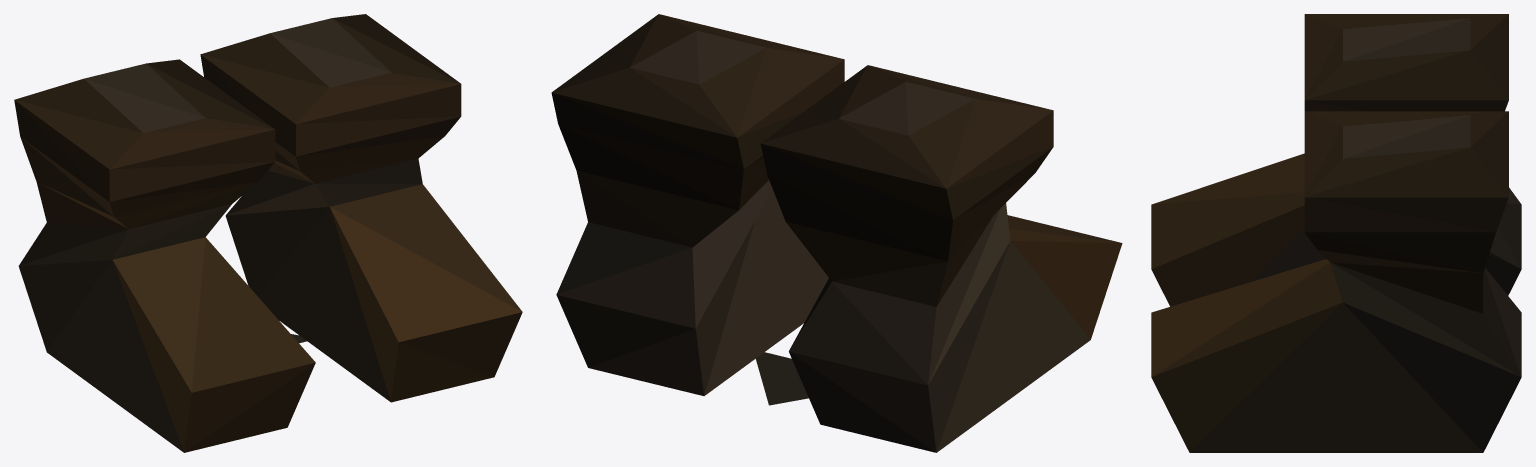
The model's file is bronze-boots.obj.
3 views of the same model, side by side, from view 1: azimuth 30°, elevation 25°; view 2: azimuth 150°, elevation 25°; view 3: azimuth 270°, elevation 25° (orthographic). The views are drawn at different scales.
Parts seen in each view (by area): view 1: Item Bronze boots 2026-09-24_18-23-58; view 2: Item Bronze boots 2026-09-24_18-23-58; view 3: Item Bronze boots 2026-09-24_18-23-58.
Boxes of the visible parts, box(x1,y1,x2,y2) form: Item Bronze boots 2026-09-24_18-23-58: box(14, 14, 522, 452); Item Bronze boots 2026-09-24_18-23-58: box(551, 14, 1122, 452); Item Bronze boots 2026-09-24_18-23-58: box(1151, 14, 1521, 452).
Size of the model in its own units: 34 by 25 by 29.
